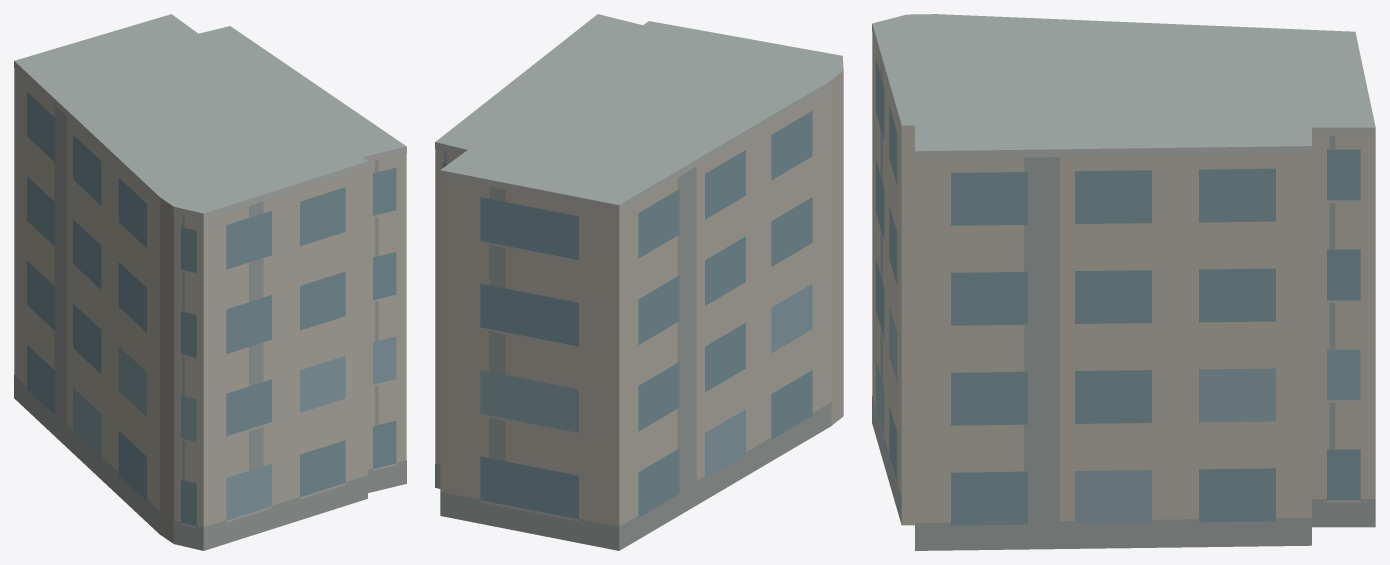
The model's file is survey-upis-33019888.glb.
3 renders of one model, left to right at view 1: azimuth 30°, elevation 25°; view 2: azimuth 150°, elevation 25°; view 3: azimuth 270°, elevation 25°, orthographic. The views are drawn at different scales.
Visible parts, largest first — view 1: survey-upis-33019888.tmp; view 2: survey-upis-33019888.tmp; view 3: survey-upis-33019888.tmp.
Boxes of the visible parts, x1,y1,x2,y2 form: survey-upis-33019888.tmp: (14, 14, 406, 550); survey-upis-33019888.tmp: (435, 14, 843, 550); survey-upis-33019888.tmp: (872, 14, 1375, 550).
Bounding box in the file's own units: 8.99 × 12.2 × 13.94.
